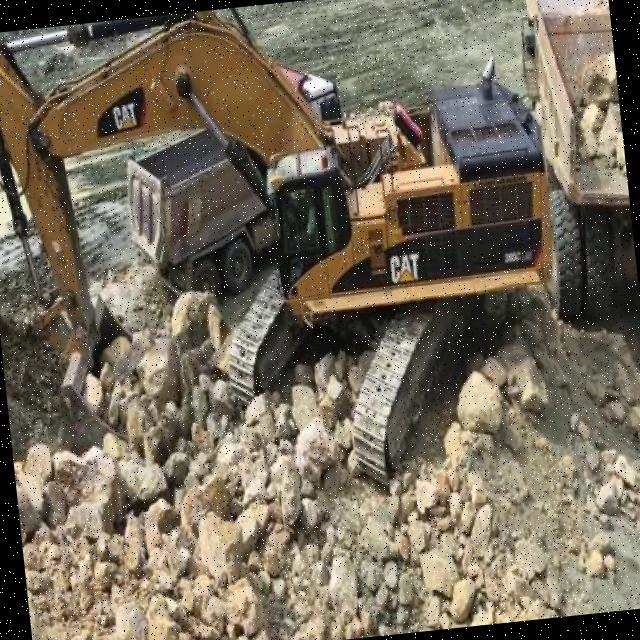Dump Truck: (113, 58, 361, 317), (515, 0, 640, 315)
Excavator: (0, 0, 578, 534)
